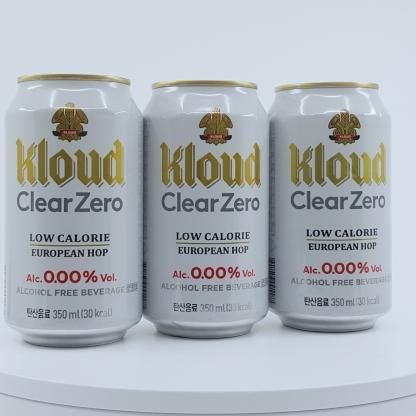--------------350ML: (3, 73, 144, 347), (138, 80, 269, 338), (264, 81, 391, 332)
